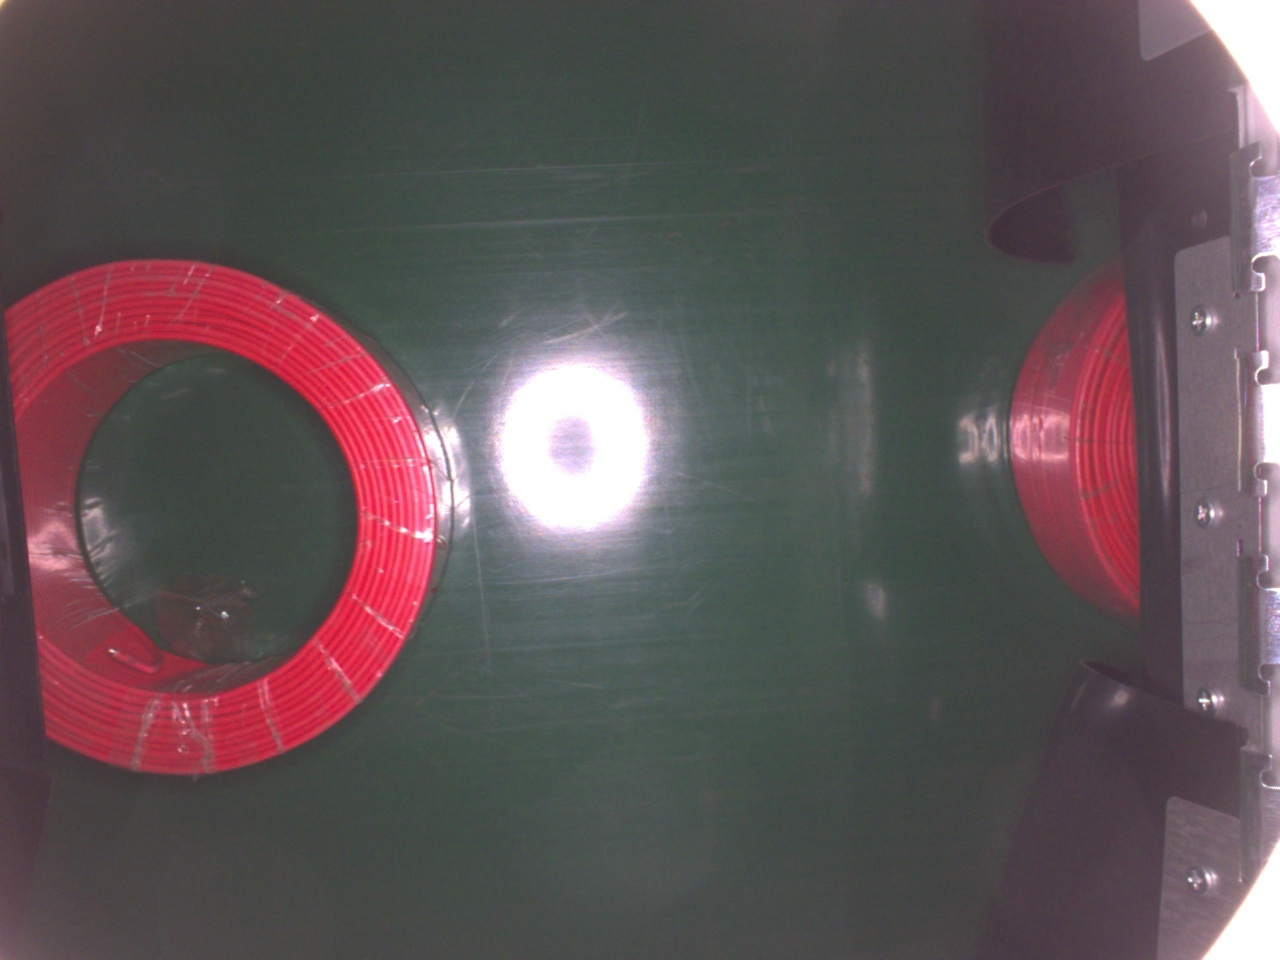red: (5, 253, 454, 781), (1006, 256, 1147, 622)
